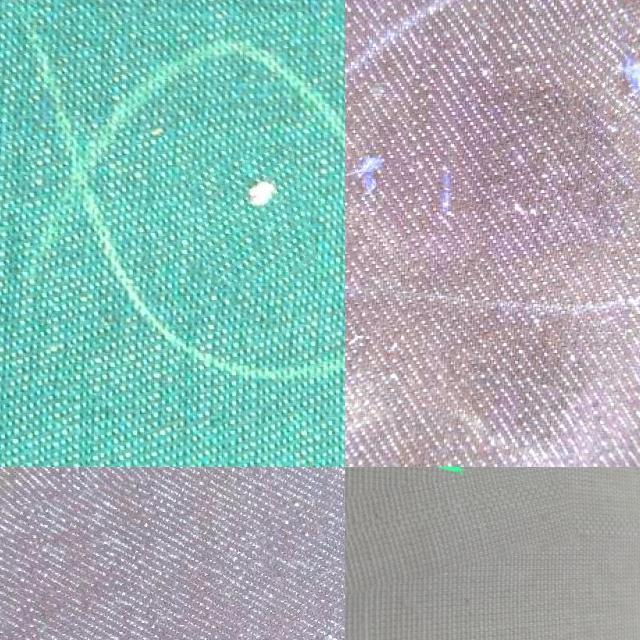Thread_other: (0, 467, 345, 640), (345, 467, 573, 596), (345, 106, 493, 265), (190, 148, 312, 282), (561, 12, 640, 201)
